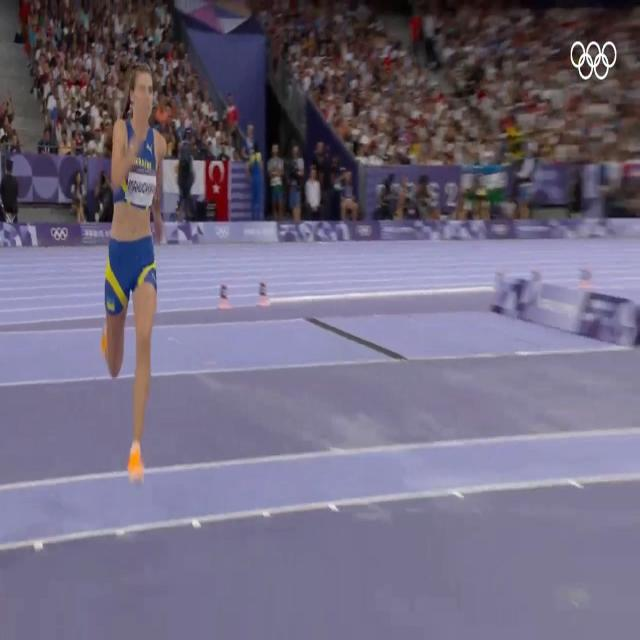run: (100, 47, 172, 483)
